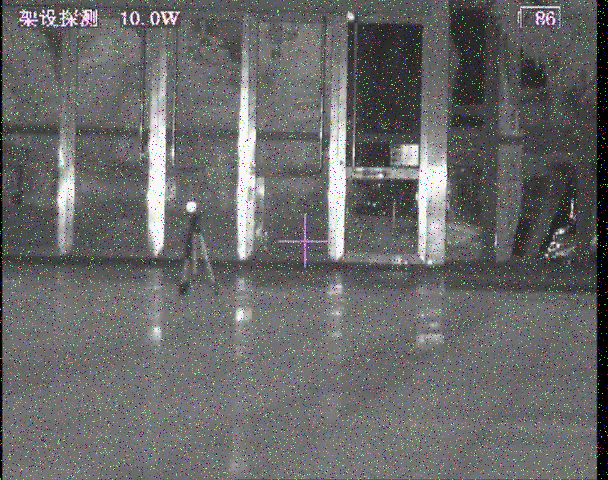my: (184, 200, 197, 214)
